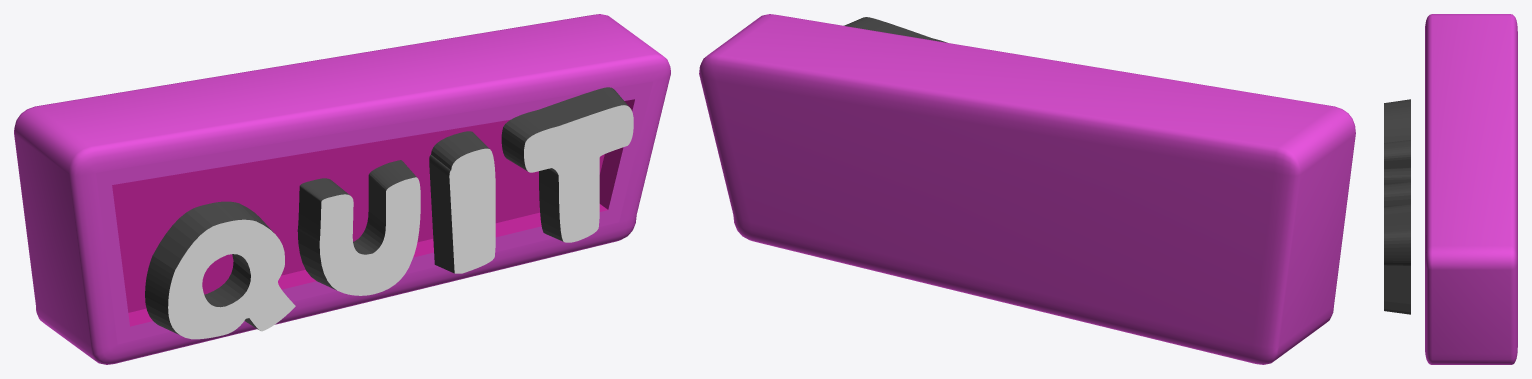
Rendered from BotonQuit.FBX.
The picture shows the model from 3 angles, left to right: view 1: azimuth 30°, elevation 25°; view 2: azimuth 150°, elevation 25°; view 3: azimuth 270°, elevation 25°; orthographic projection. The views are drawn at different scales.
Visible parts, largest first — view 1: Text002; view 2: Text002; view 3: Text002.
Part boxes in pixels (x1=…): Text002: x1=14, y1=14, x2=670, y2=364; Text002: x1=699, y1=14, x2=1355, y2=364; Text002: x1=1384, y1=14, x2=1517, y2=364.
Size of the model in its own units: 42.43 by 15.01 by 11.29.
